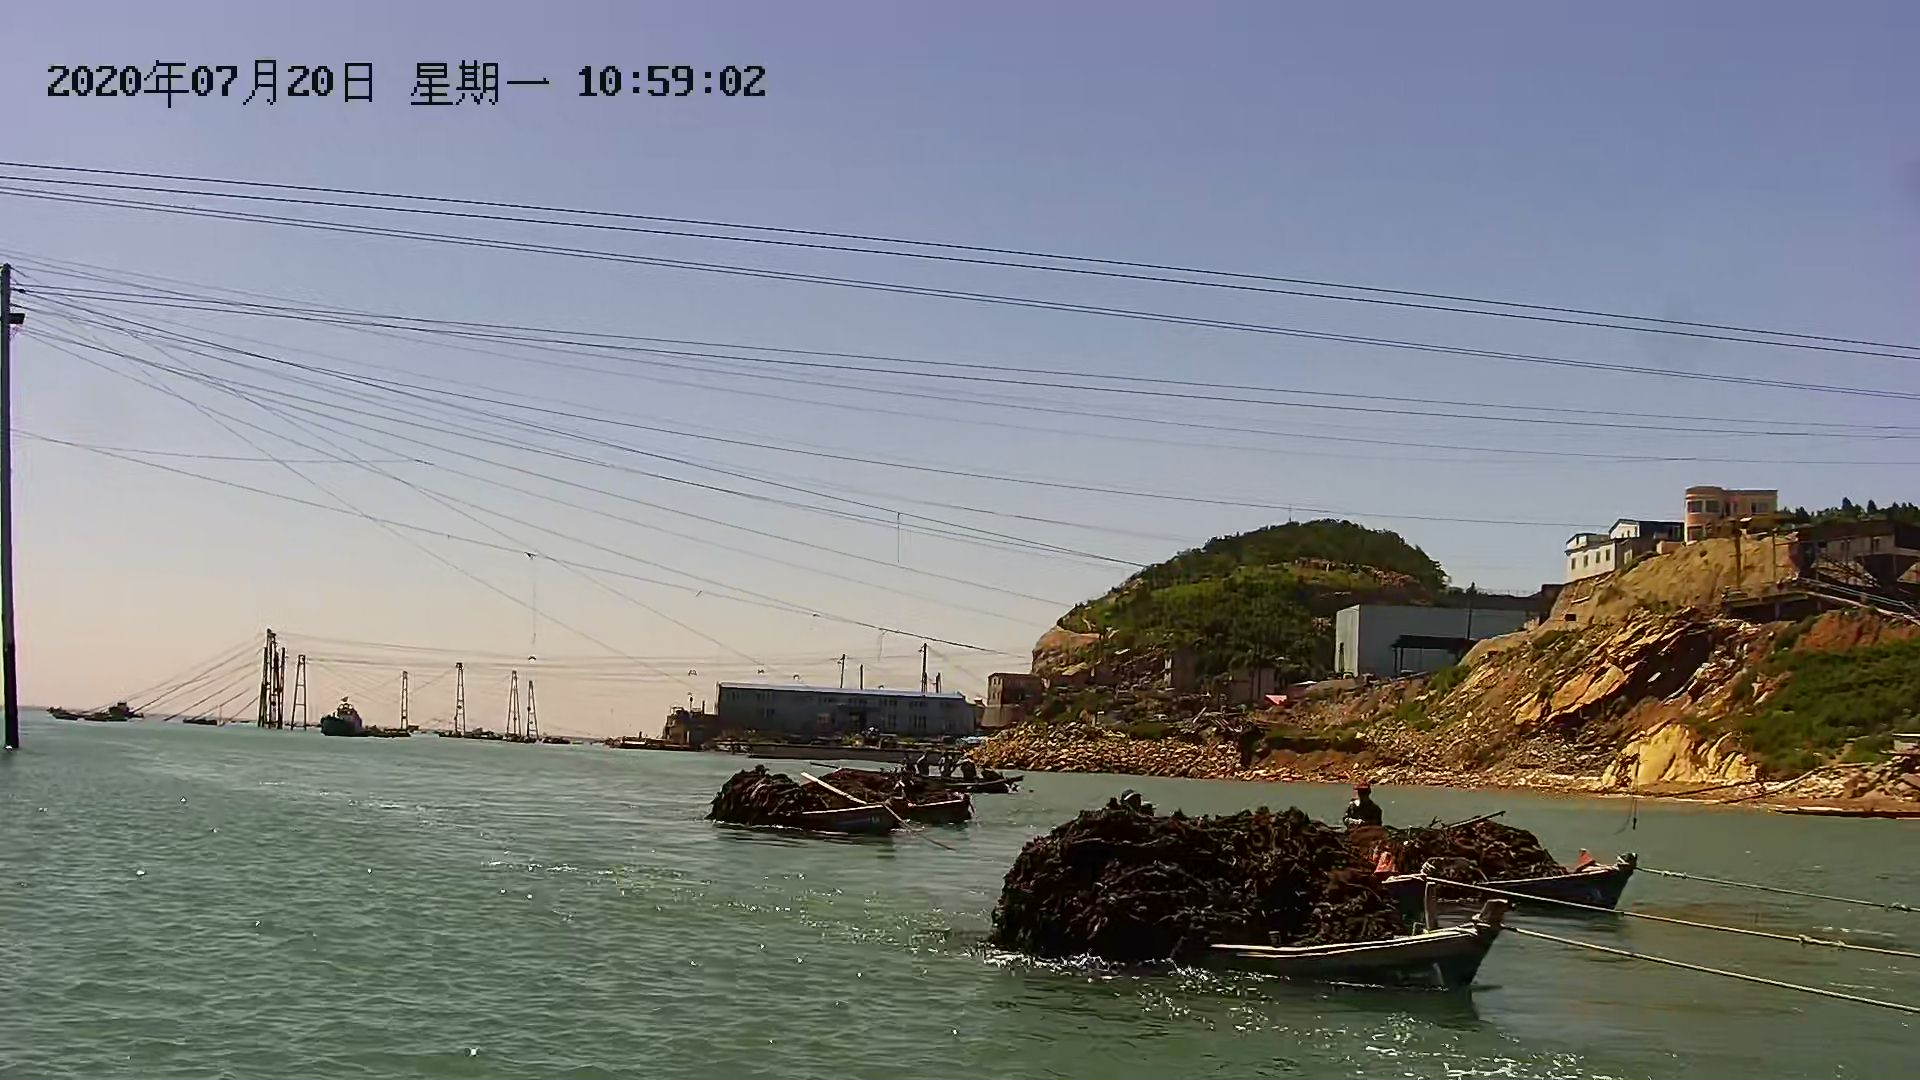boat: (905, 769, 1024, 799), (47, 707, 129, 726)
mast: (1, 249, 21, 756)
person: (1339, 778, 1388, 836), (937, 744, 957, 794), (955, 749, 978, 788), (915, 748, 933, 784)
rubbish: (1005, 797, 1544, 963), (716, 750, 937, 832)
ship: (316, 696, 373, 741)
